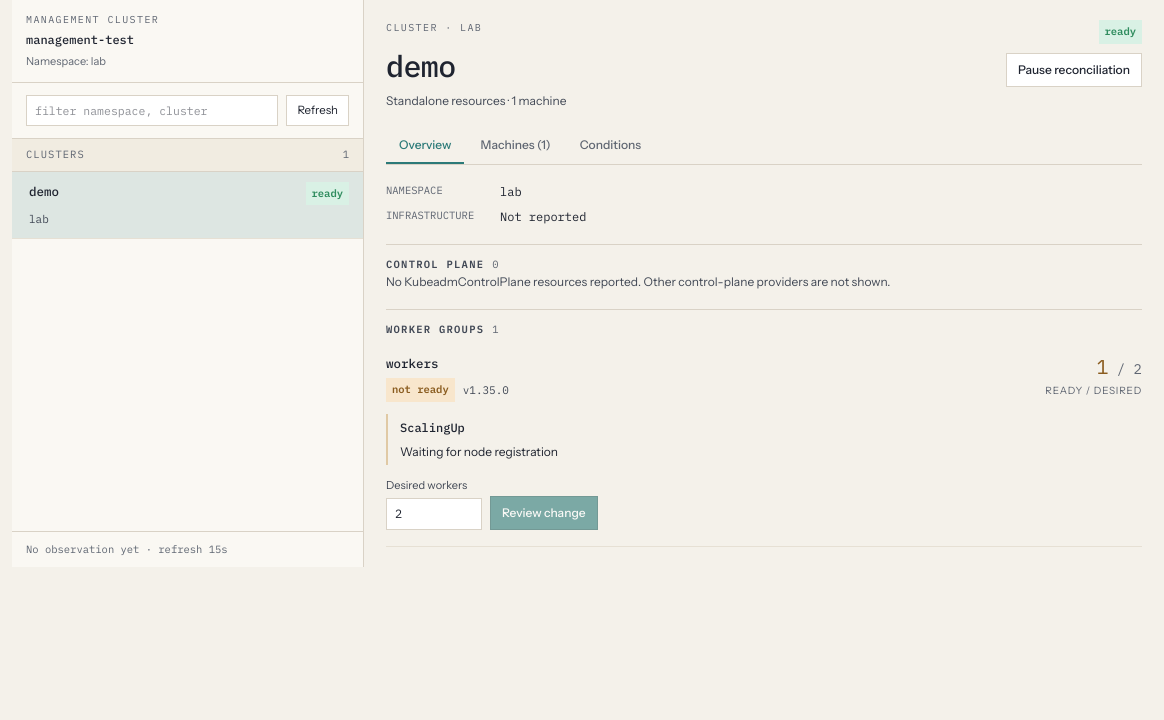
Test case: separates machine inventory and raw conditions from the operational overview
Expected: the heading "demo" is shown, [386,46,456,85]
Expected: the text "Waiting for node registration" is shown, [400,444,558,458]
Click the button "Machines (1)".
click(516, 146)  # box [468,128,564,164]
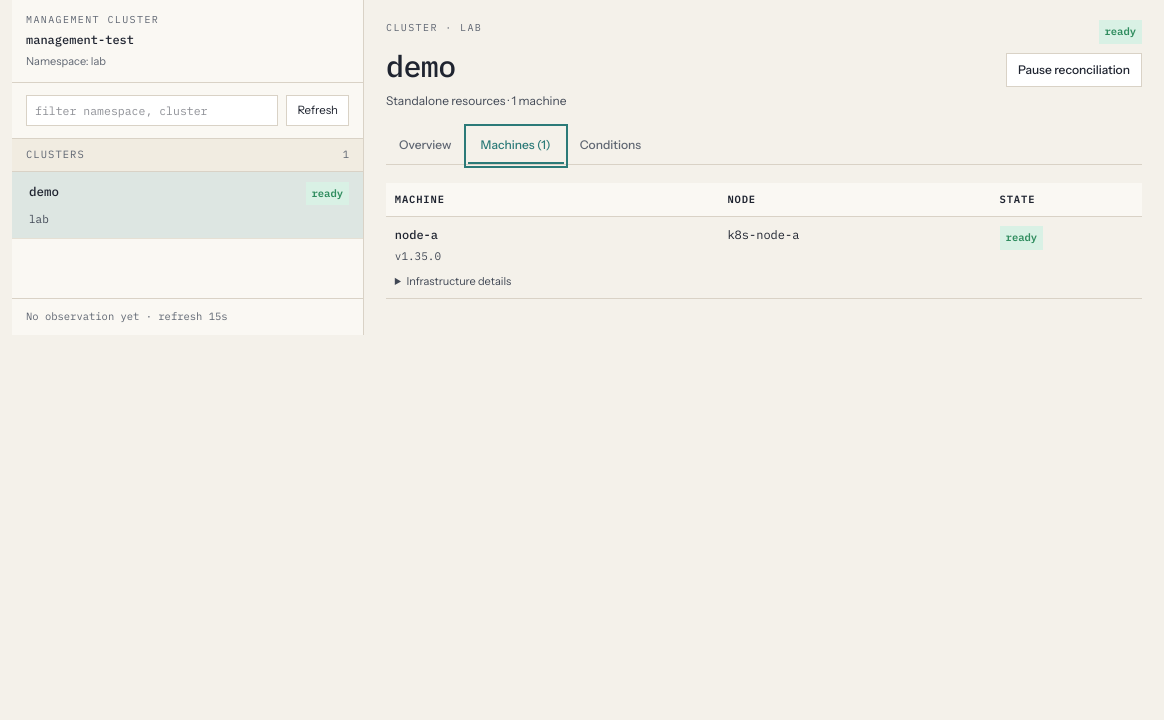
Expected: the text "k8s-node-a" is shown, [719,217,991,298]
Click the heading "Infrastructure details".
click(453, 281)  # box [395,273,511,289]
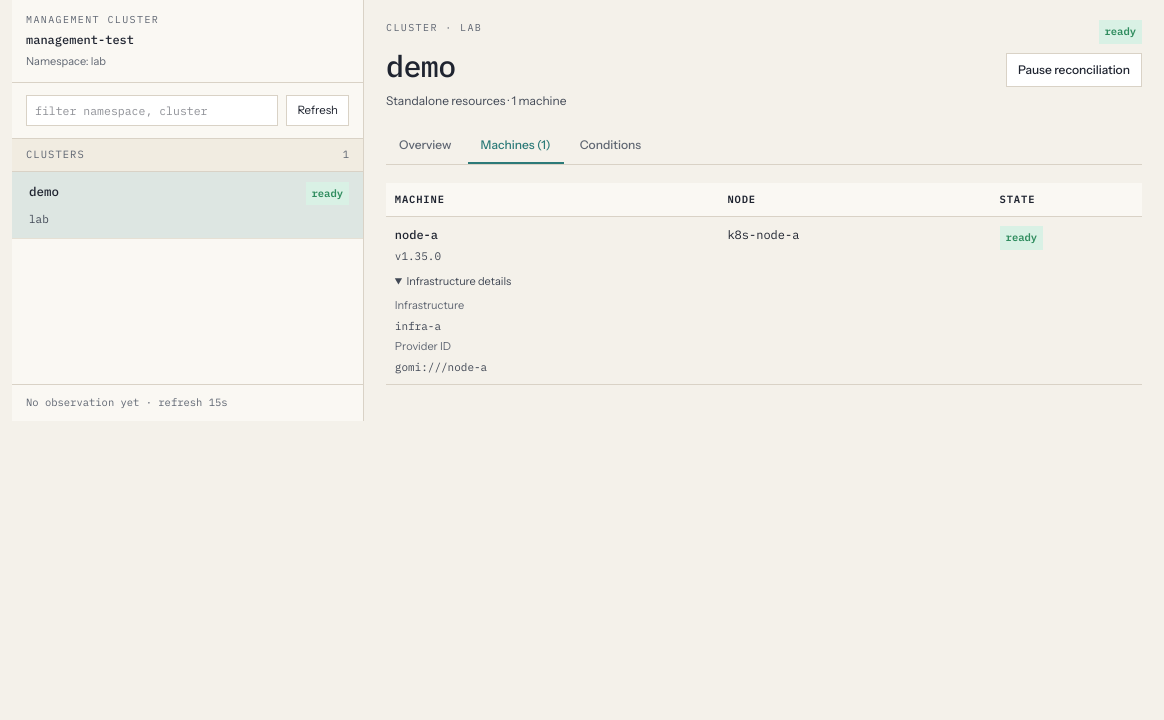
Expected: the text "gomi:///node-a" is shown, [395,360,487,374]
Click the button "Conditions".
click(610, 146)  # box [567,128,654,164]
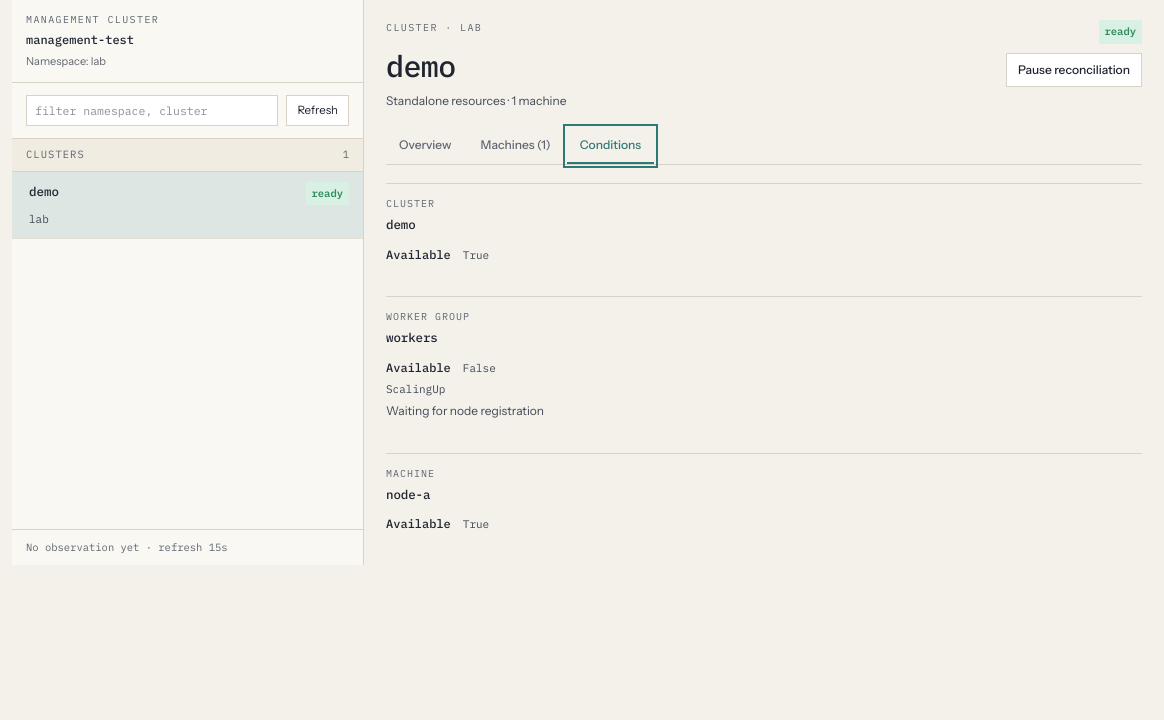
Expected: the table is gone
Expected: the text "Waiting for node registration" is shown, [386,403,544,418]
Click the button "Overview".
click(425, 146)  # box [386,128,464,164]
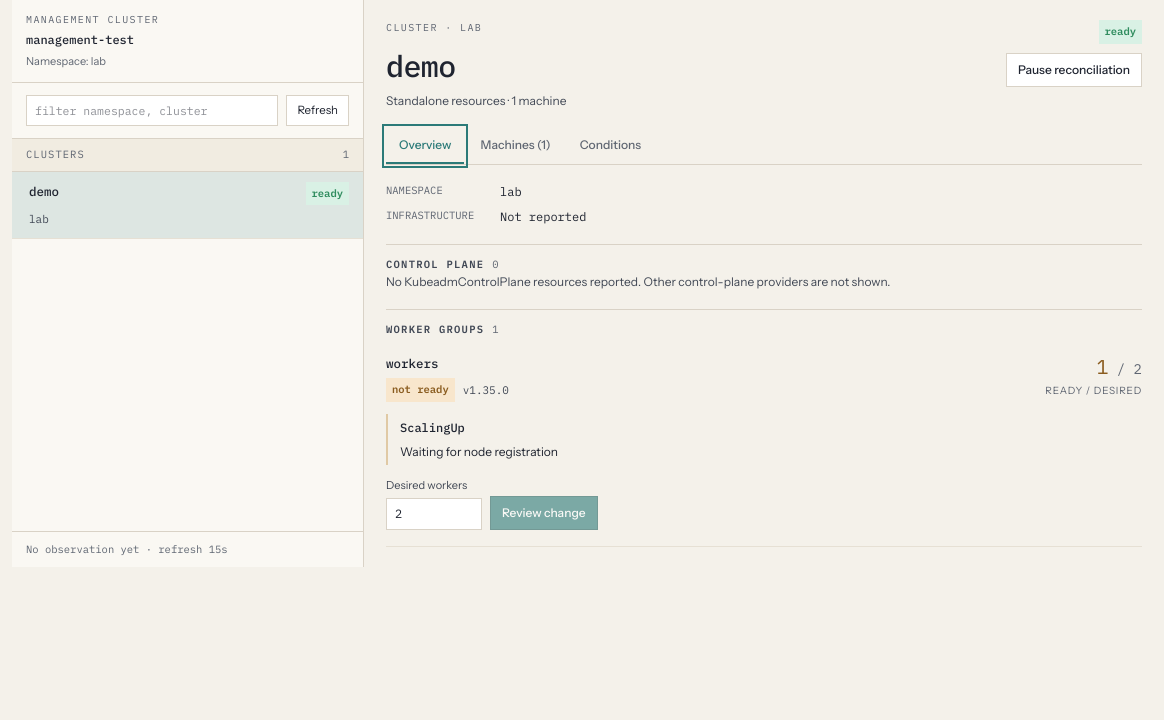
Expected: the number field is shown, [386,498,482,530]
